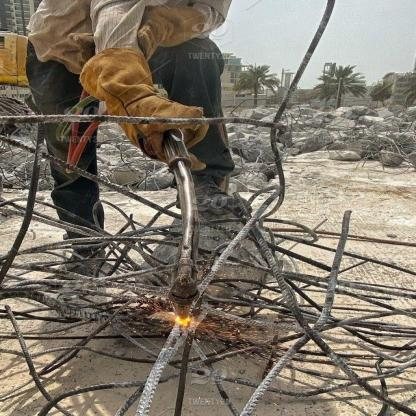rebar: (0, 184, 415, 390), (14, 263, 415, 366), (236, 193, 413, 416), (137, 192, 282, 415), (20, 238, 414, 300), (240, 211, 354, 415), (0, 133, 185, 221), (263, 1, 335, 220), (281, 101, 415, 176), (0, 93, 45, 287), (189, 361, 415, 398), (3, 303, 76, 415), (31, 368, 188, 415), (204, 220, 328, 272), (104, 200, 179, 274), (94, 132, 184, 192), (2, 114, 283, 131), (2, 290, 132, 324), (189, 339, 241, 414), (0, 353, 83, 399), (2, 196, 100, 234), (0, 344, 159, 367), (1, 197, 103, 232), (0, 146, 59, 195), (0, 208, 99, 236), (92, 197, 140, 231), (222, 94, 288, 118), (3, 332, 171, 341), (175, 335, 193, 416), (211, 278, 282, 297)
